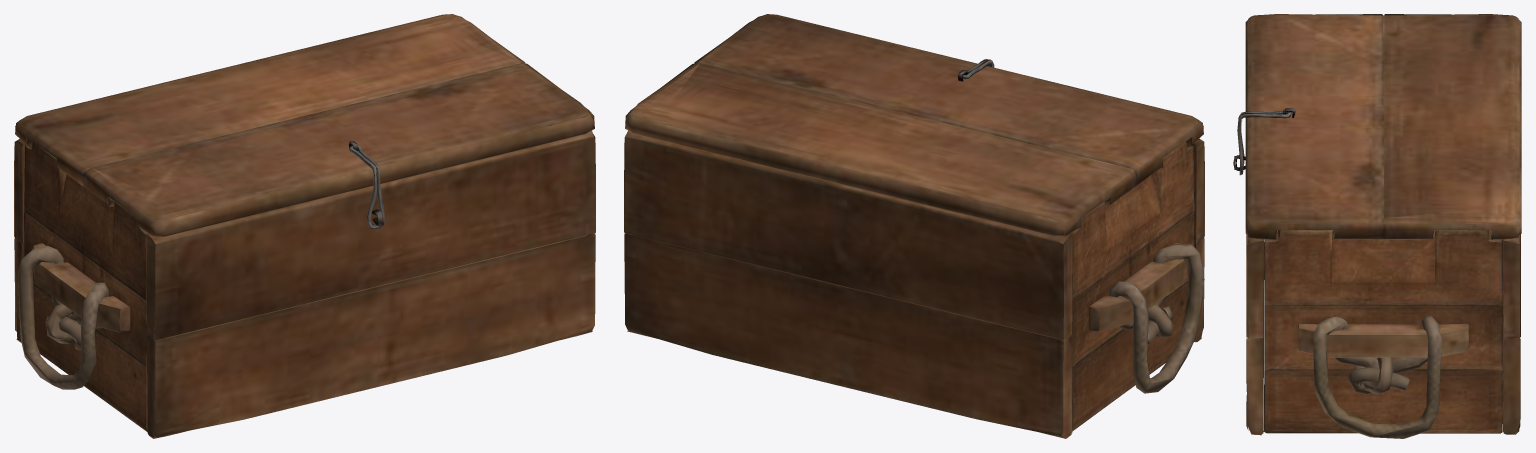
File: ph_wooden_crate_01.glb
The picture shows the model from 3 angles, left to right: view 1: azimuth 30°, elevation 25°; view 2: azimuth 150°, elevation 25°; view 3: azimuth 270°, elevation 25°; orthographic projection. The views are drawn at different scales.
Parts seen in each view (by area): view 1: wooden_crate_01_lid; view 2: wooden_crate_01_lid; view 3: wooden_crate_01_lid.
Boxes of the visible parts, x1,y1,x2,y2 form: wooden_crate_01_lid: (14,14,595,438); wooden_crate_01_lid: (624,14,1204,438); wooden_crate_01_lid: (1233,14,1521,438).
Bounding box in the file's own units: 0.8247 × 0.3478 × 0.4088.
Materials: 1 (1 with a texture image).
